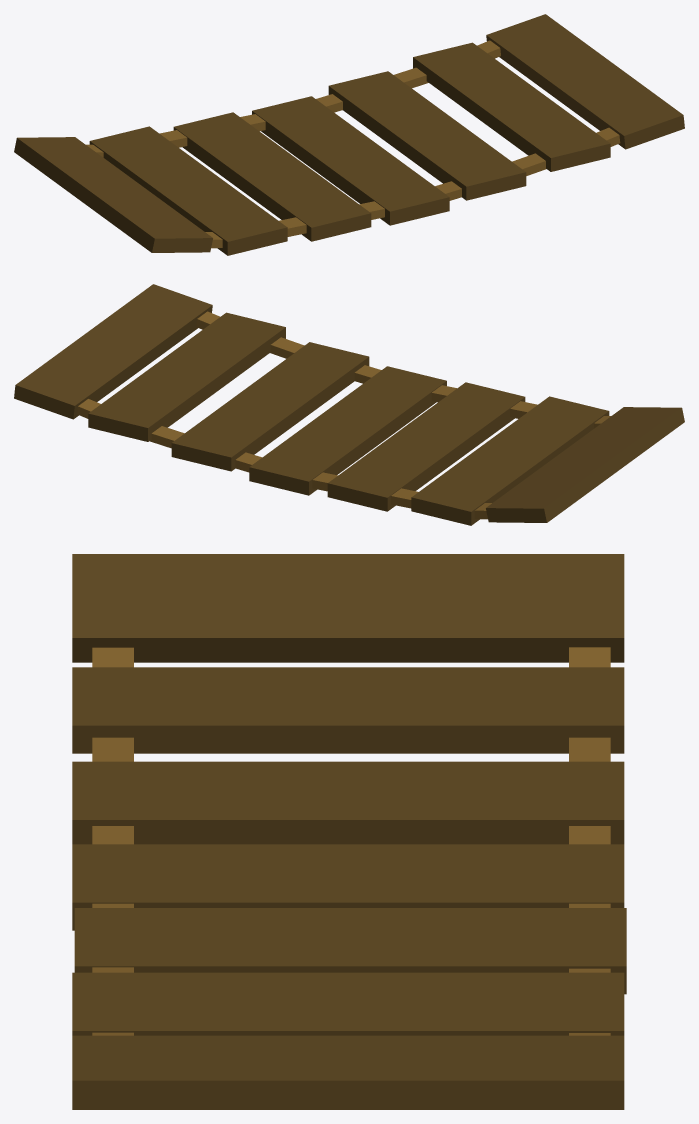
File: Bridge_0_0.fbx
3 views of the same model, one above another, from view 1: azimuth 30°, elevation 25°; view 2: azimuth 150°, elevation 25°; view 3: azimuth 270°, elevation 25° (orthographic). The views are drawn at different scales.
Parts seen in each view (by area): view 1: Cube.003, Cube, Cube.007; view 2: Cube.003, Cube.007, Cube; view 3: Cube.003, Cube, Cube.007.
Boxes of the visible parts, x1=… form: Cube.003: x1=14, y1=14, x2=684, y2=255; Cube: x1=205, y1=127, x2=620, y2=248; Cube.007: x1=86, y1=40, x2=500, y2=157; Cube.003: x1=14, y1=284, x2=684, y2=525; Cube.007: x1=77, y1=399, x2=491, y2=519; Cube: x1=196, y1=311, x2=610, y2=428; Cube.003: x1=72, y1=554, x2=626, y2=1109; Cube: x1=92, y1=647, x2=133, y2=1035; Cube.007: x1=569, y1=647, x2=610, y2=1035.
Bounding box in the file's own units: 892 × 70.92 × 402.
